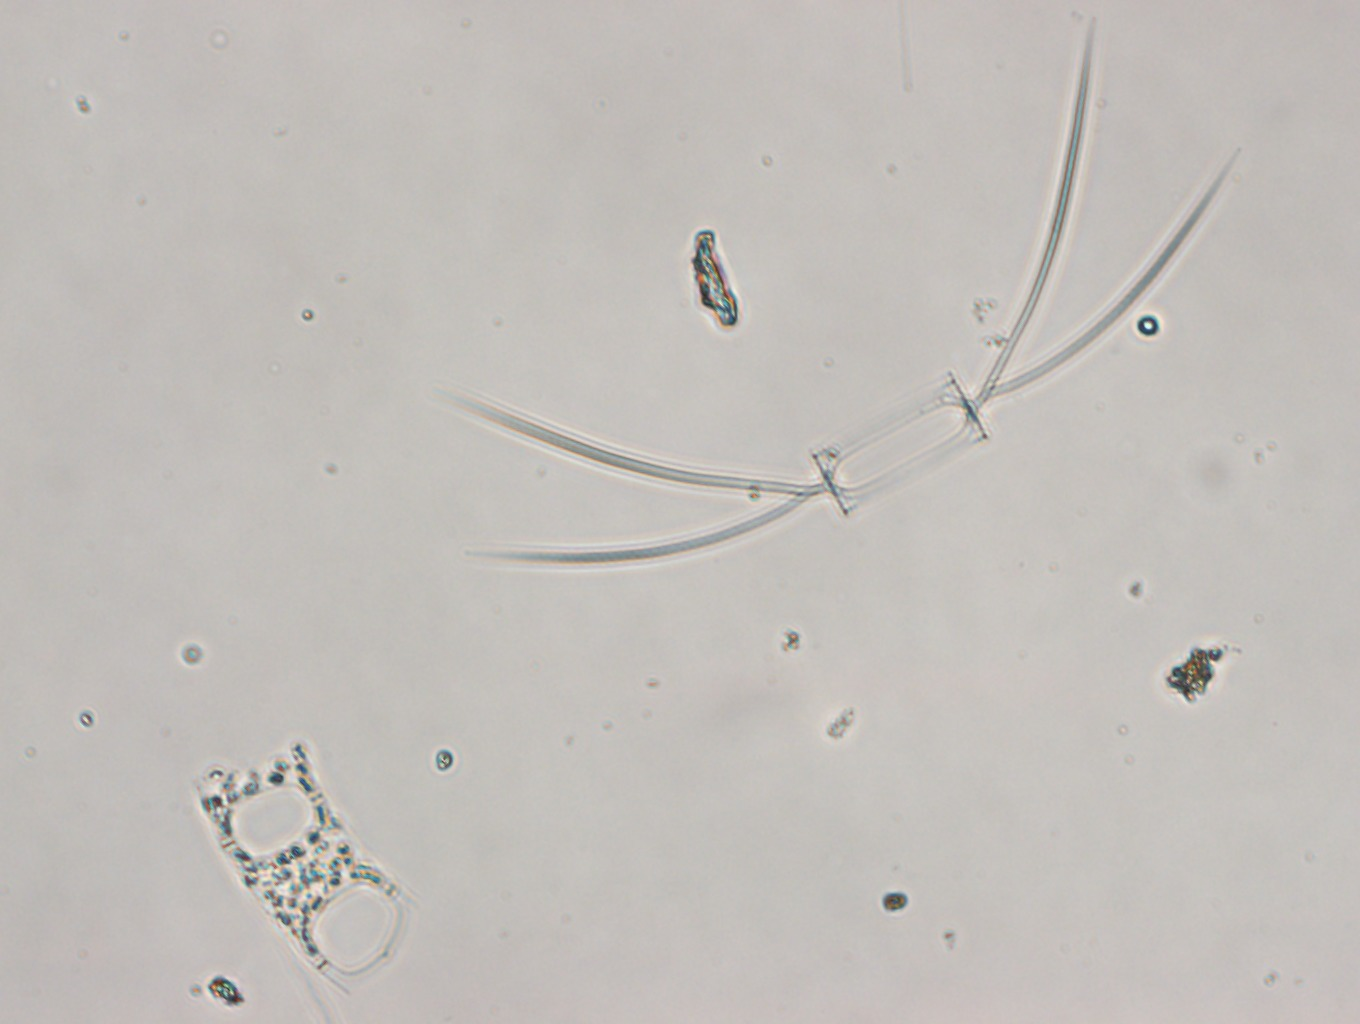chaetoceros: (429, 14, 1239, 568)
eucampia: (187, 734, 414, 999)
